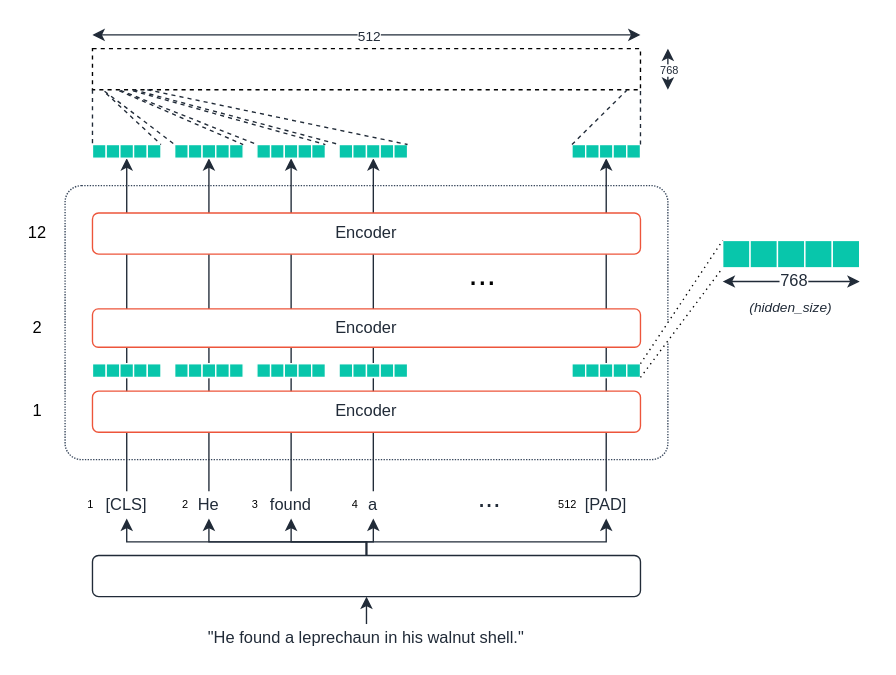
Some shapes in this 896 by 675 pixel diagram are drawn without their labels. Here are the shapes that lost their labels. From the top down, the centre of each, then its label:
At pixel 365 68: "last_hidden_state tensor".
At pixel 365 575: "Tokenizer".
